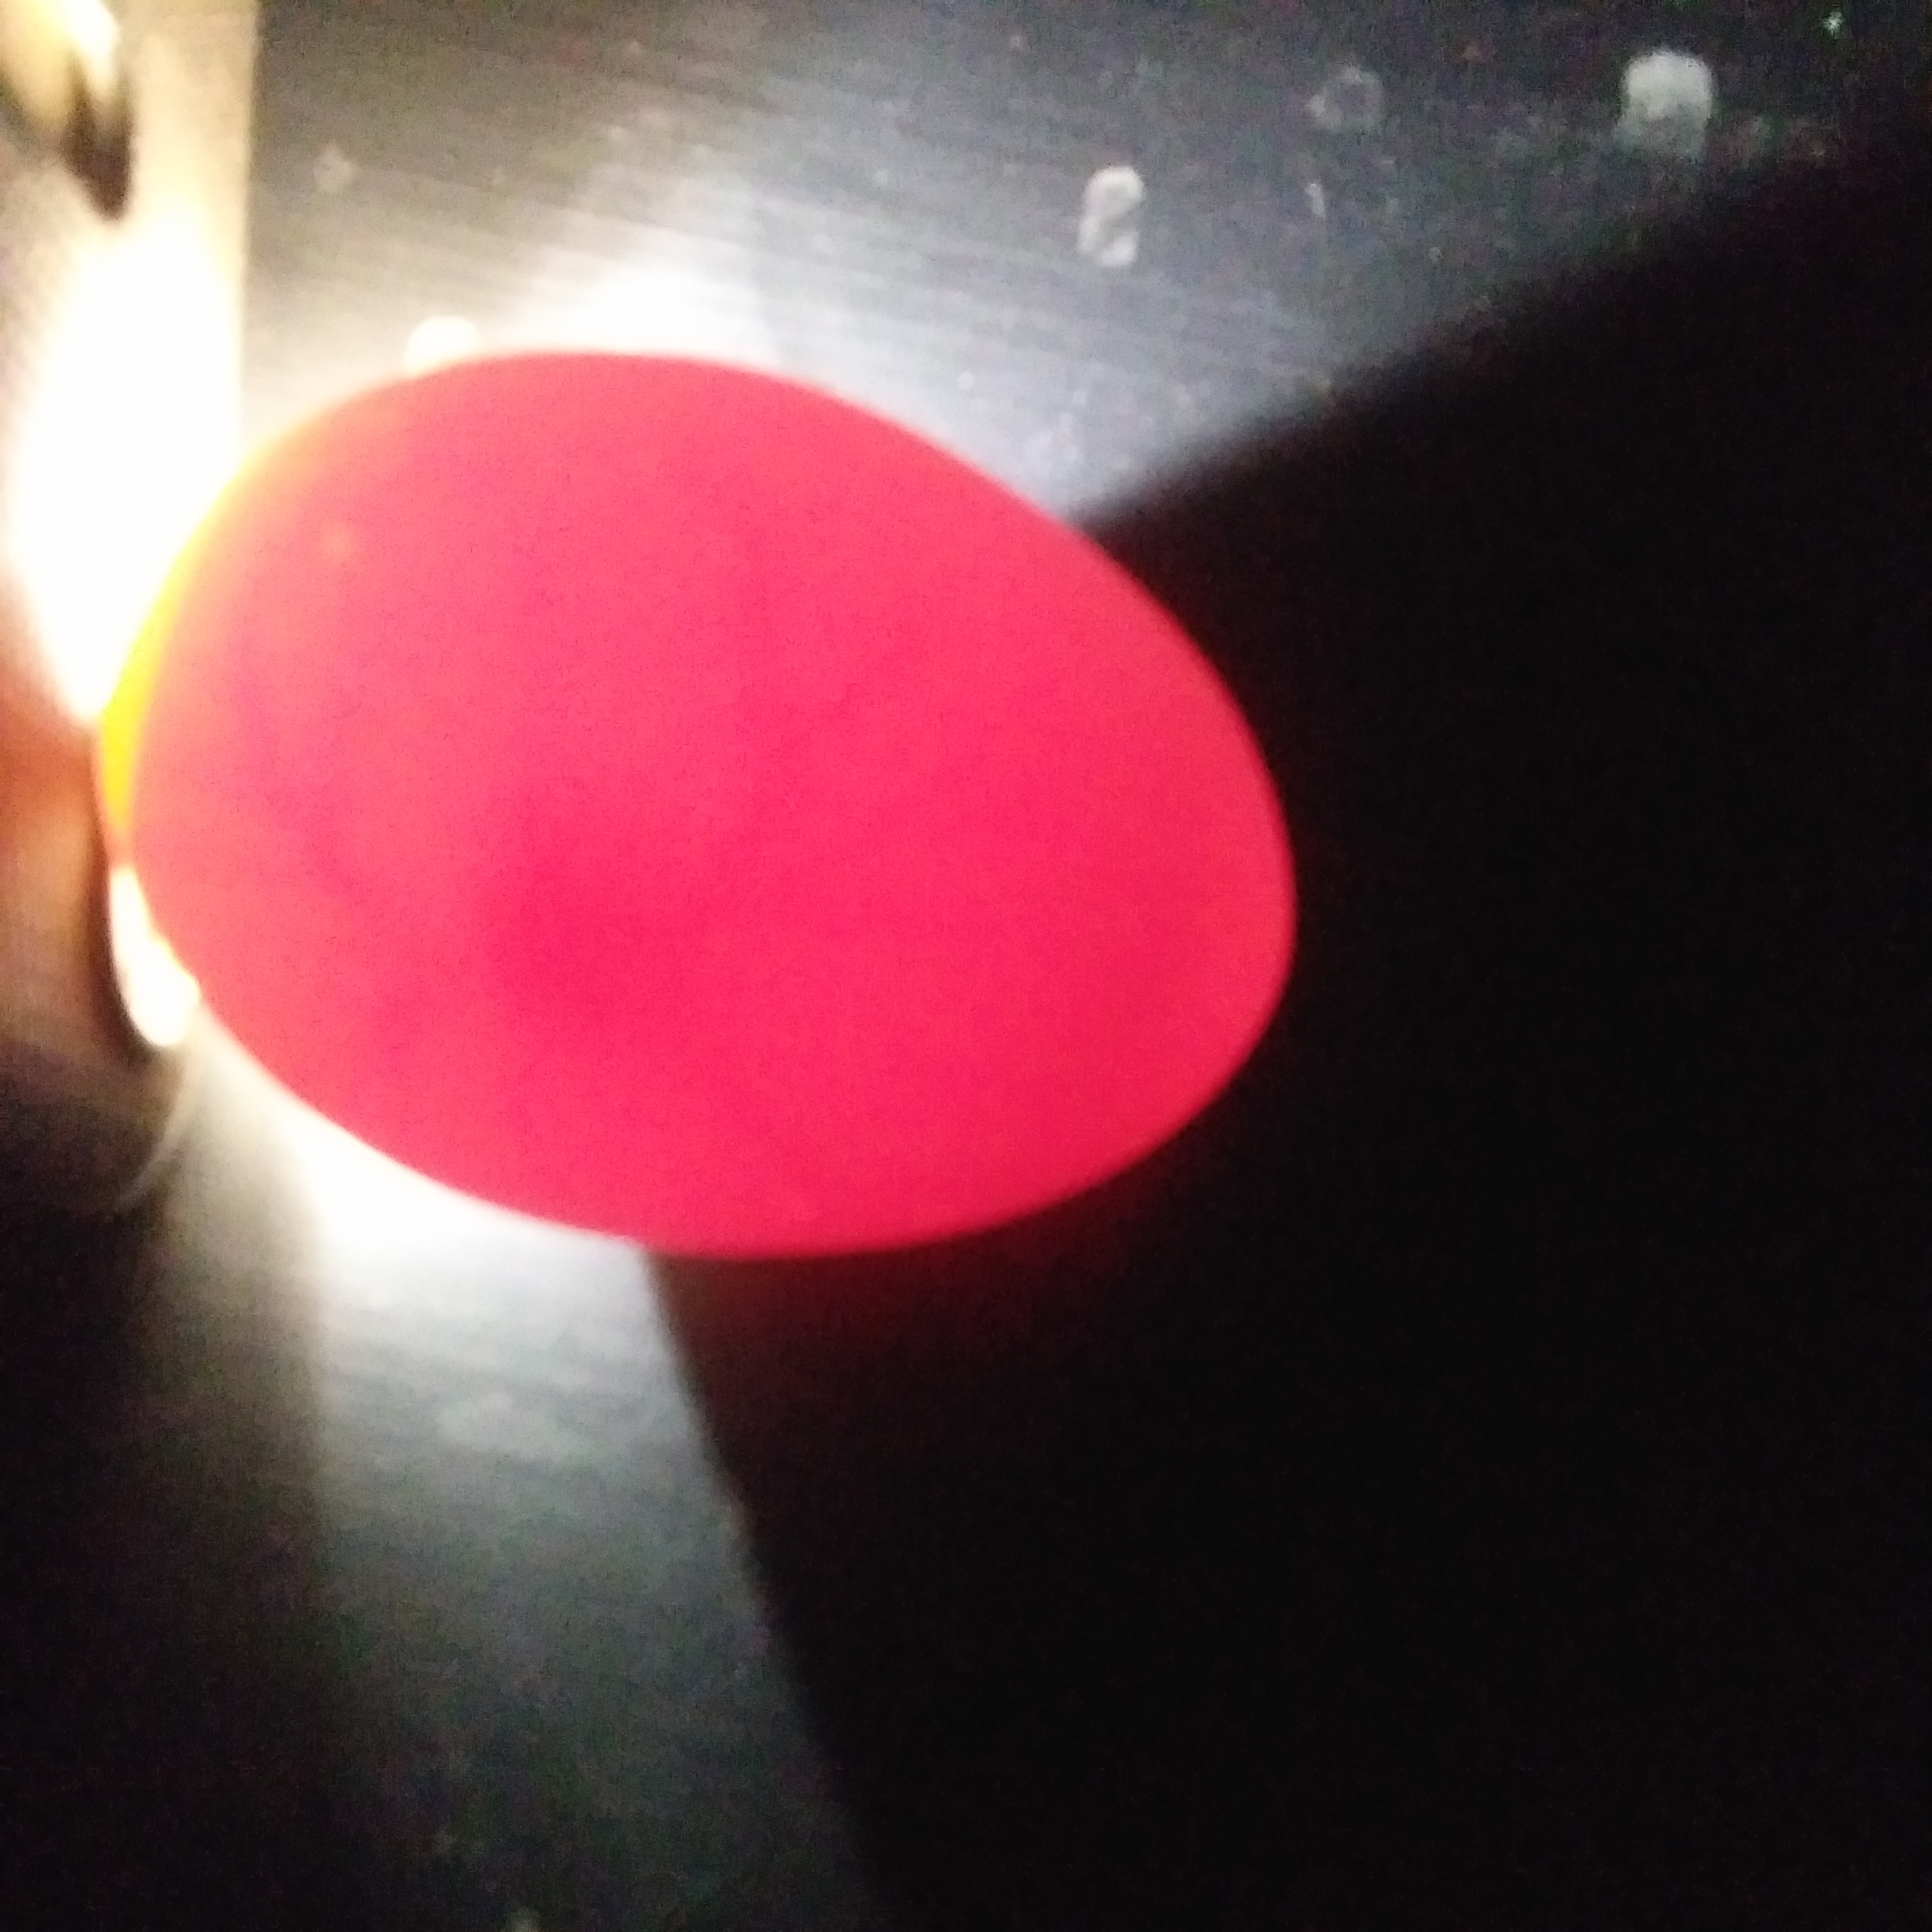bloodcell: (202, 630, 375, 939)
